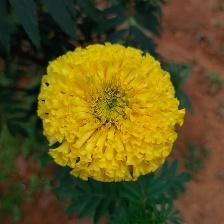marigold: (38, 41, 187, 185)
